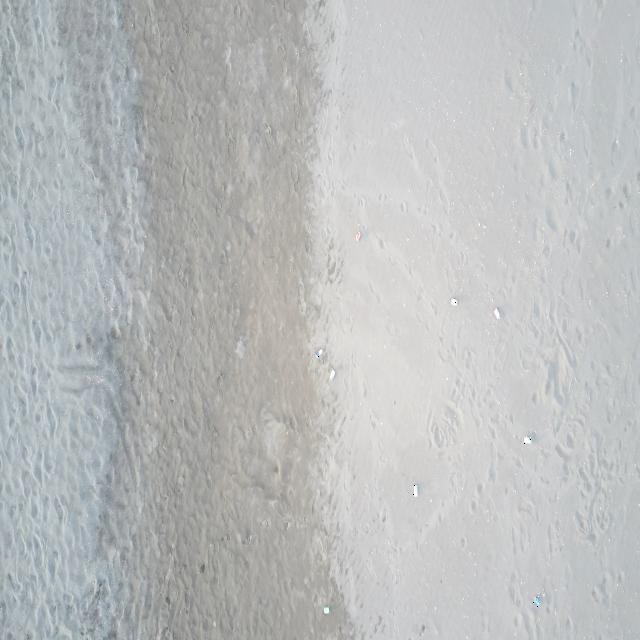tin-and-aluminum-cans: (493, 307, 501, 320), (534, 595, 542, 608), (413, 484, 419, 499), (329, 368, 335, 382), (524, 436, 532, 446), (355, 231, 361, 243), (316, 348, 323, 358), (450, 297, 457, 306), (323, 606, 330, 615)
